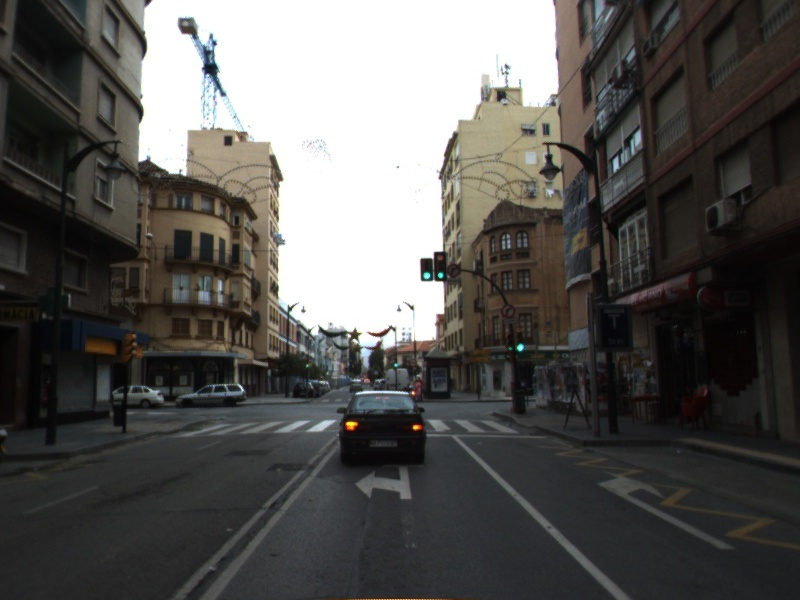RIGHT: (595, 467, 737, 552)
STRAIGHT_LEFT: (354, 460, 426, 501)
